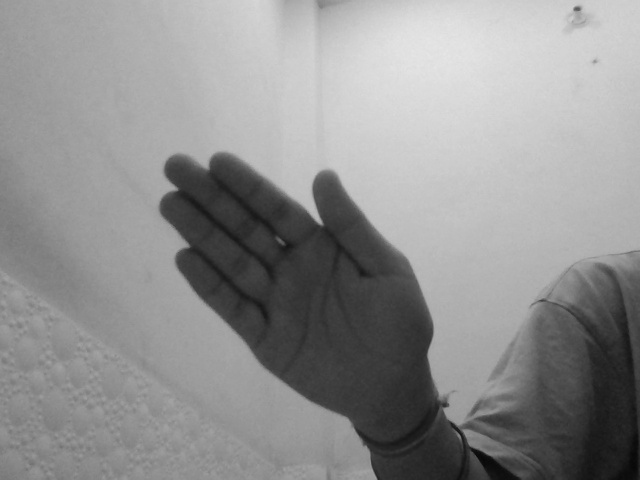Hello: (154, 146, 441, 419)
